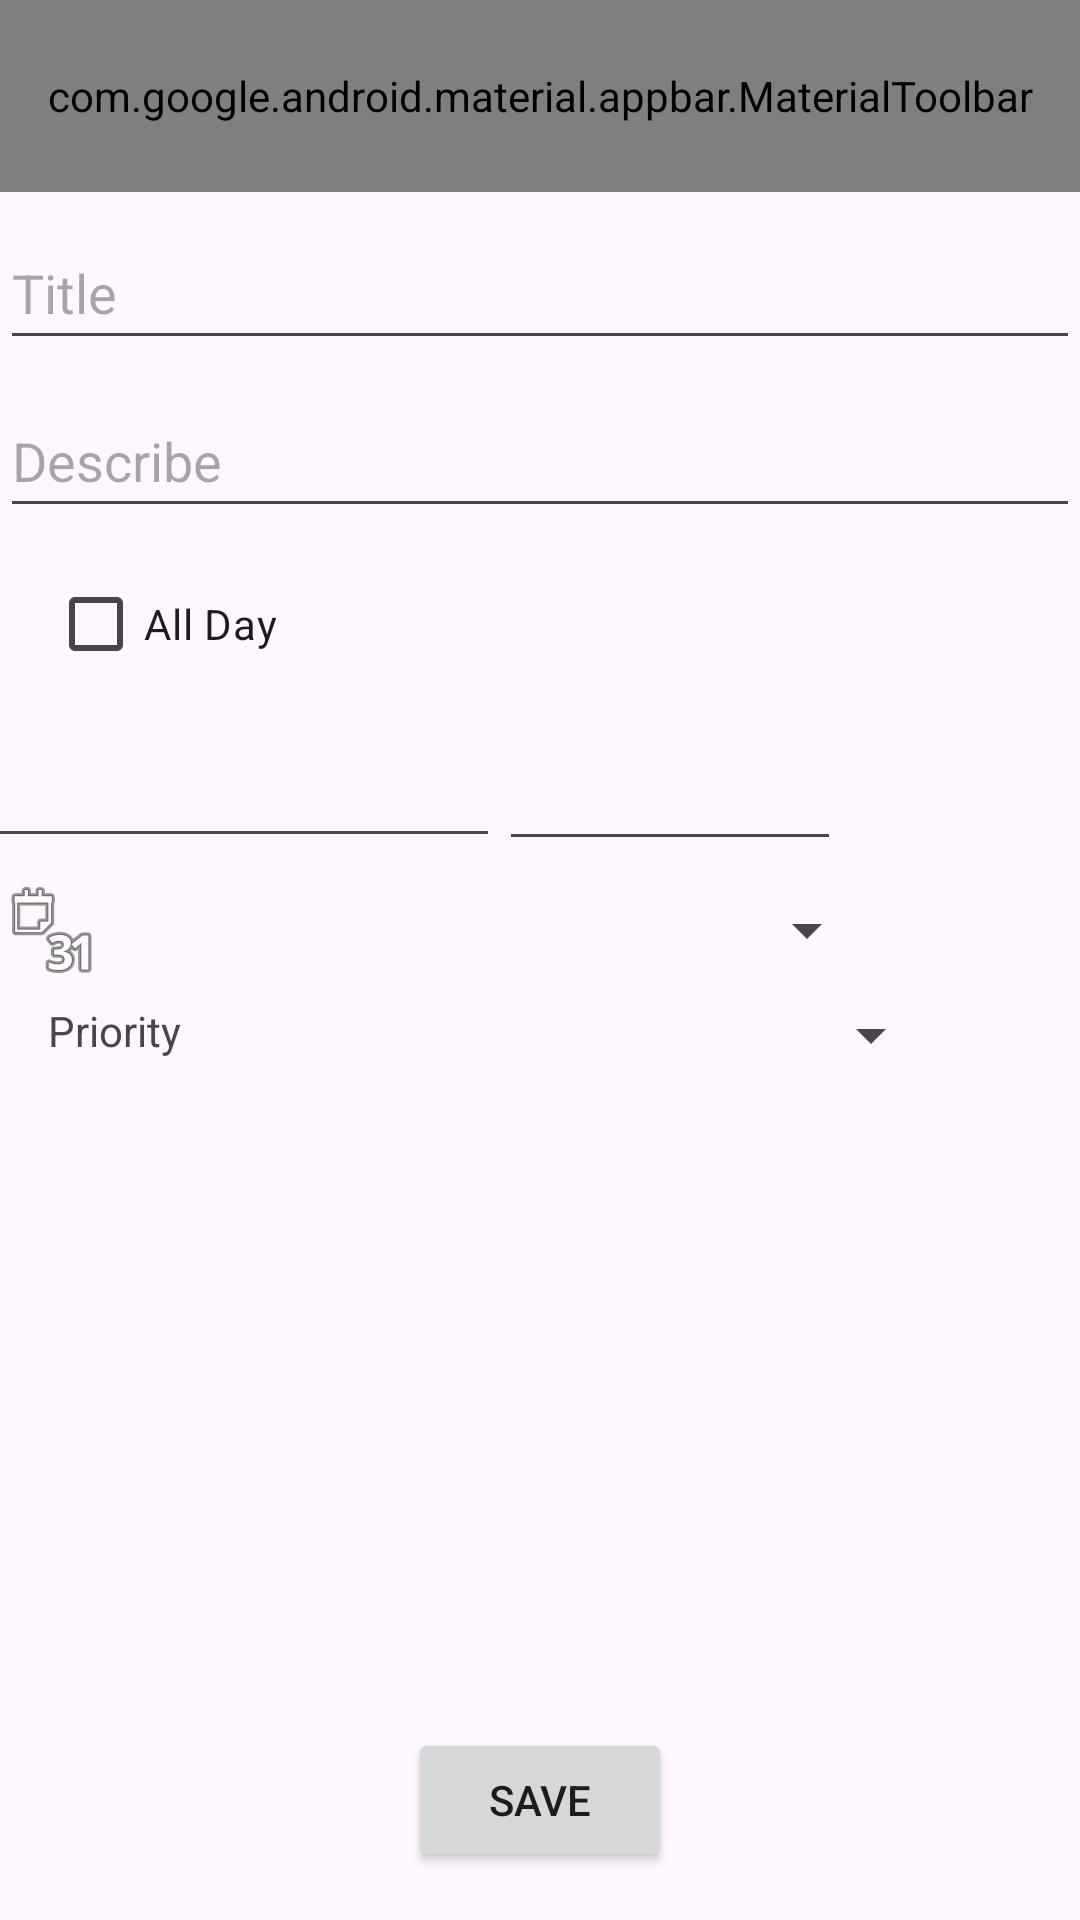

Named icons in this screenshot (1080w x 1920h) and their centers, (x=x, y=y):
month: (x=51, y=930)
